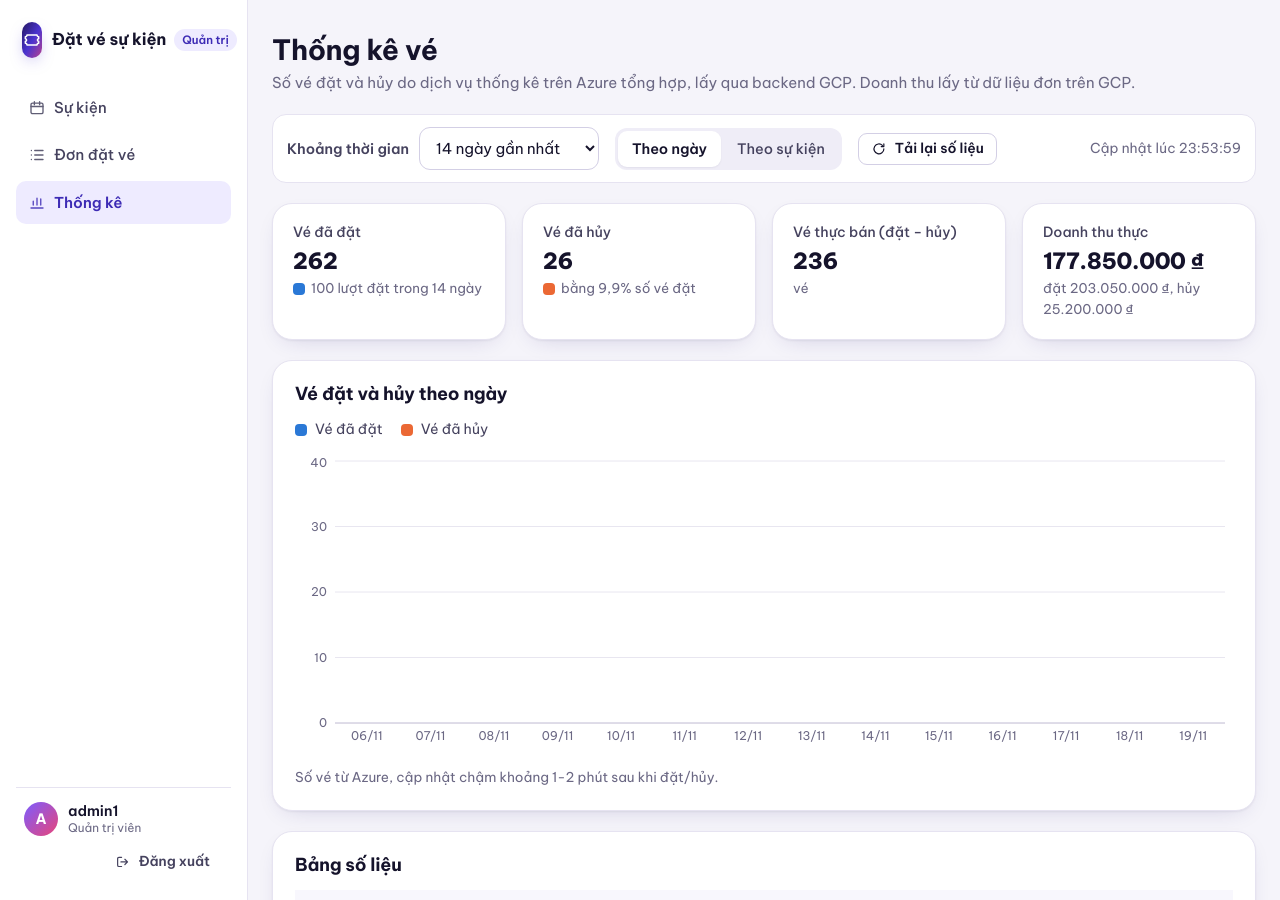
Test: tra cứu đơn và thống kê › dashboard: tổng trên ô số liệu khớp với bảng, báo lỗi khi mất kết nối và tải lại được
The image size is (1280, 900).
Check: the text "Doanh thu thực" is shown, box [1043, 223, 1148, 241]
Click the button "Tải lại số liệu" at {"x": 927, "y": 149}, box [858, 133, 997, 165]
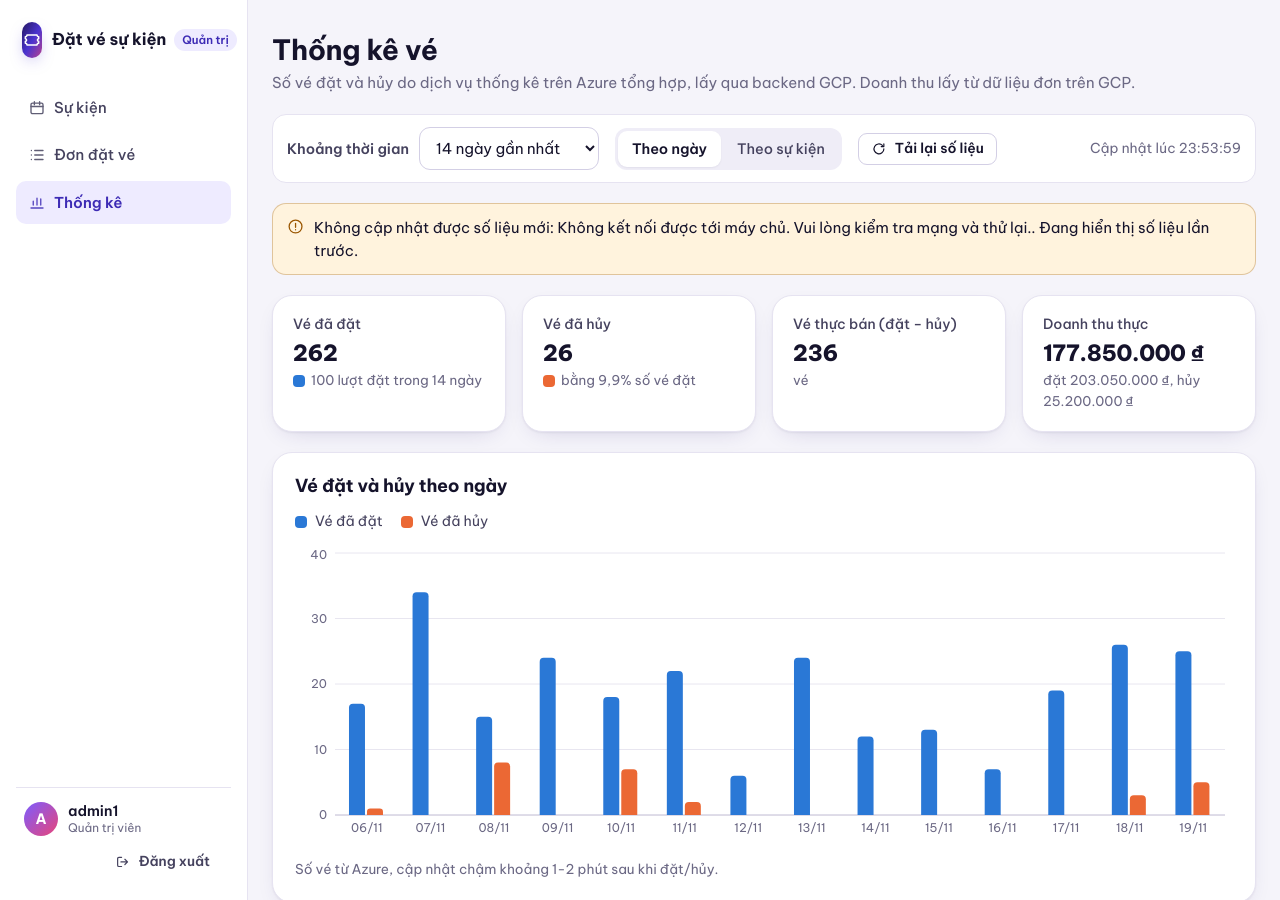
Check: the text "Không cập nhật được số liệu mới" is shown, box [314, 218, 558, 237]
Click the button "Tải lại số liệu" at {"x": 927, "y": 149}, box [858, 133, 997, 165]
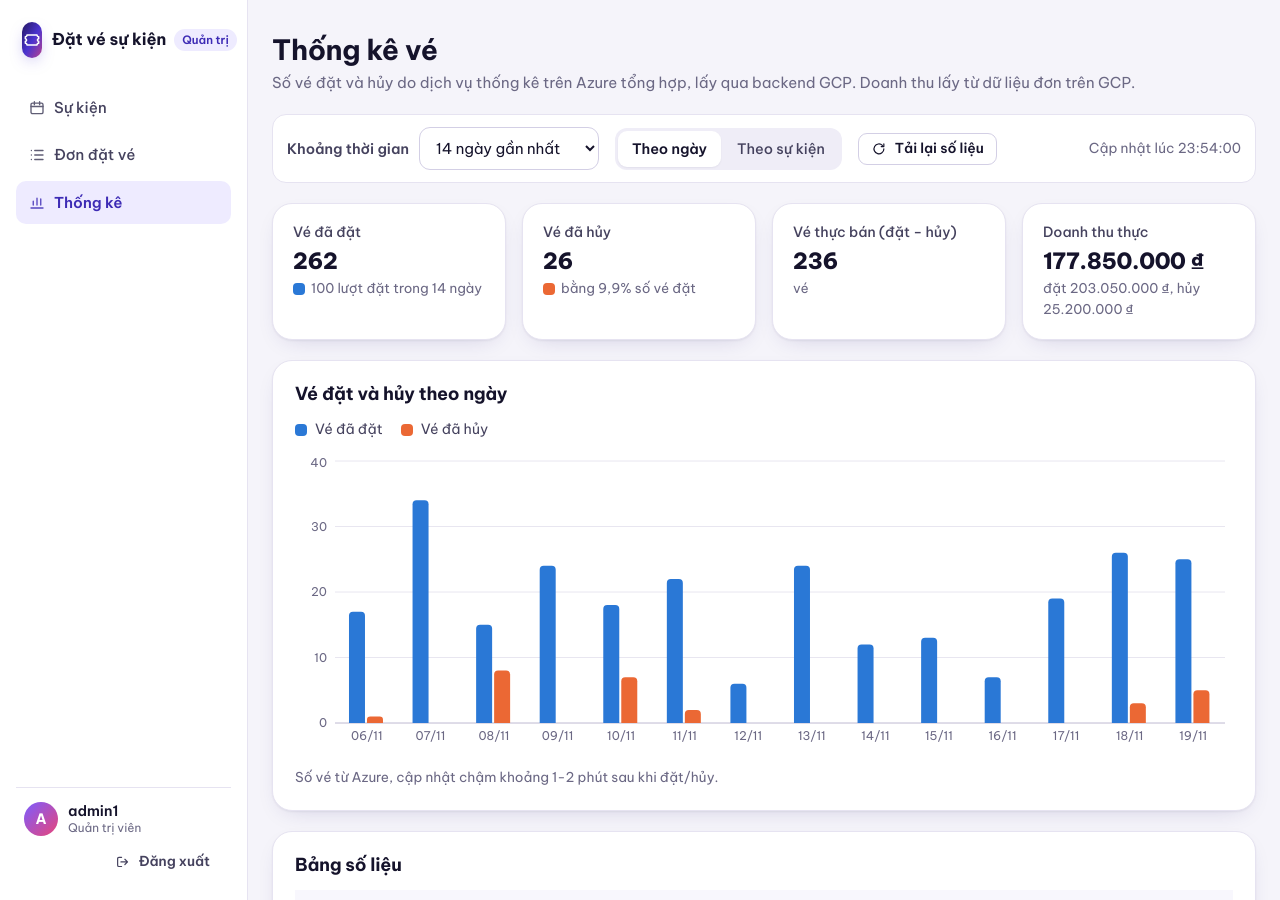
Check: the text "Không cập nhật được số liệu mới" is gone
